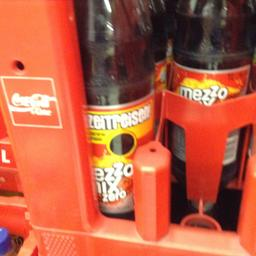soda: (71, 0, 154, 217), (166, 0, 252, 186)
